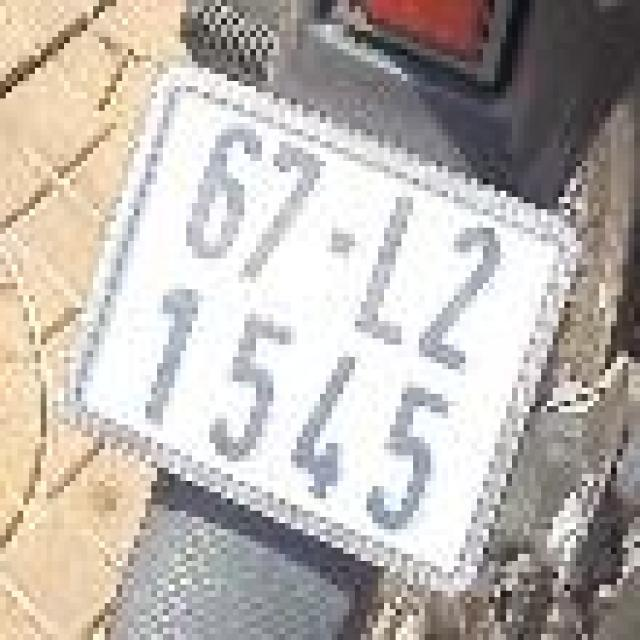1: (395, 180, 518, 369), (106, 294, 206, 472)
4: (274, 330, 387, 519)
5: (357, 354, 479, 549), (178, 312, 300, 504)
6: (141, 109, 253, 295)
7: (204, 133, 316, 318)
L: (334, 163, 434, 353)
